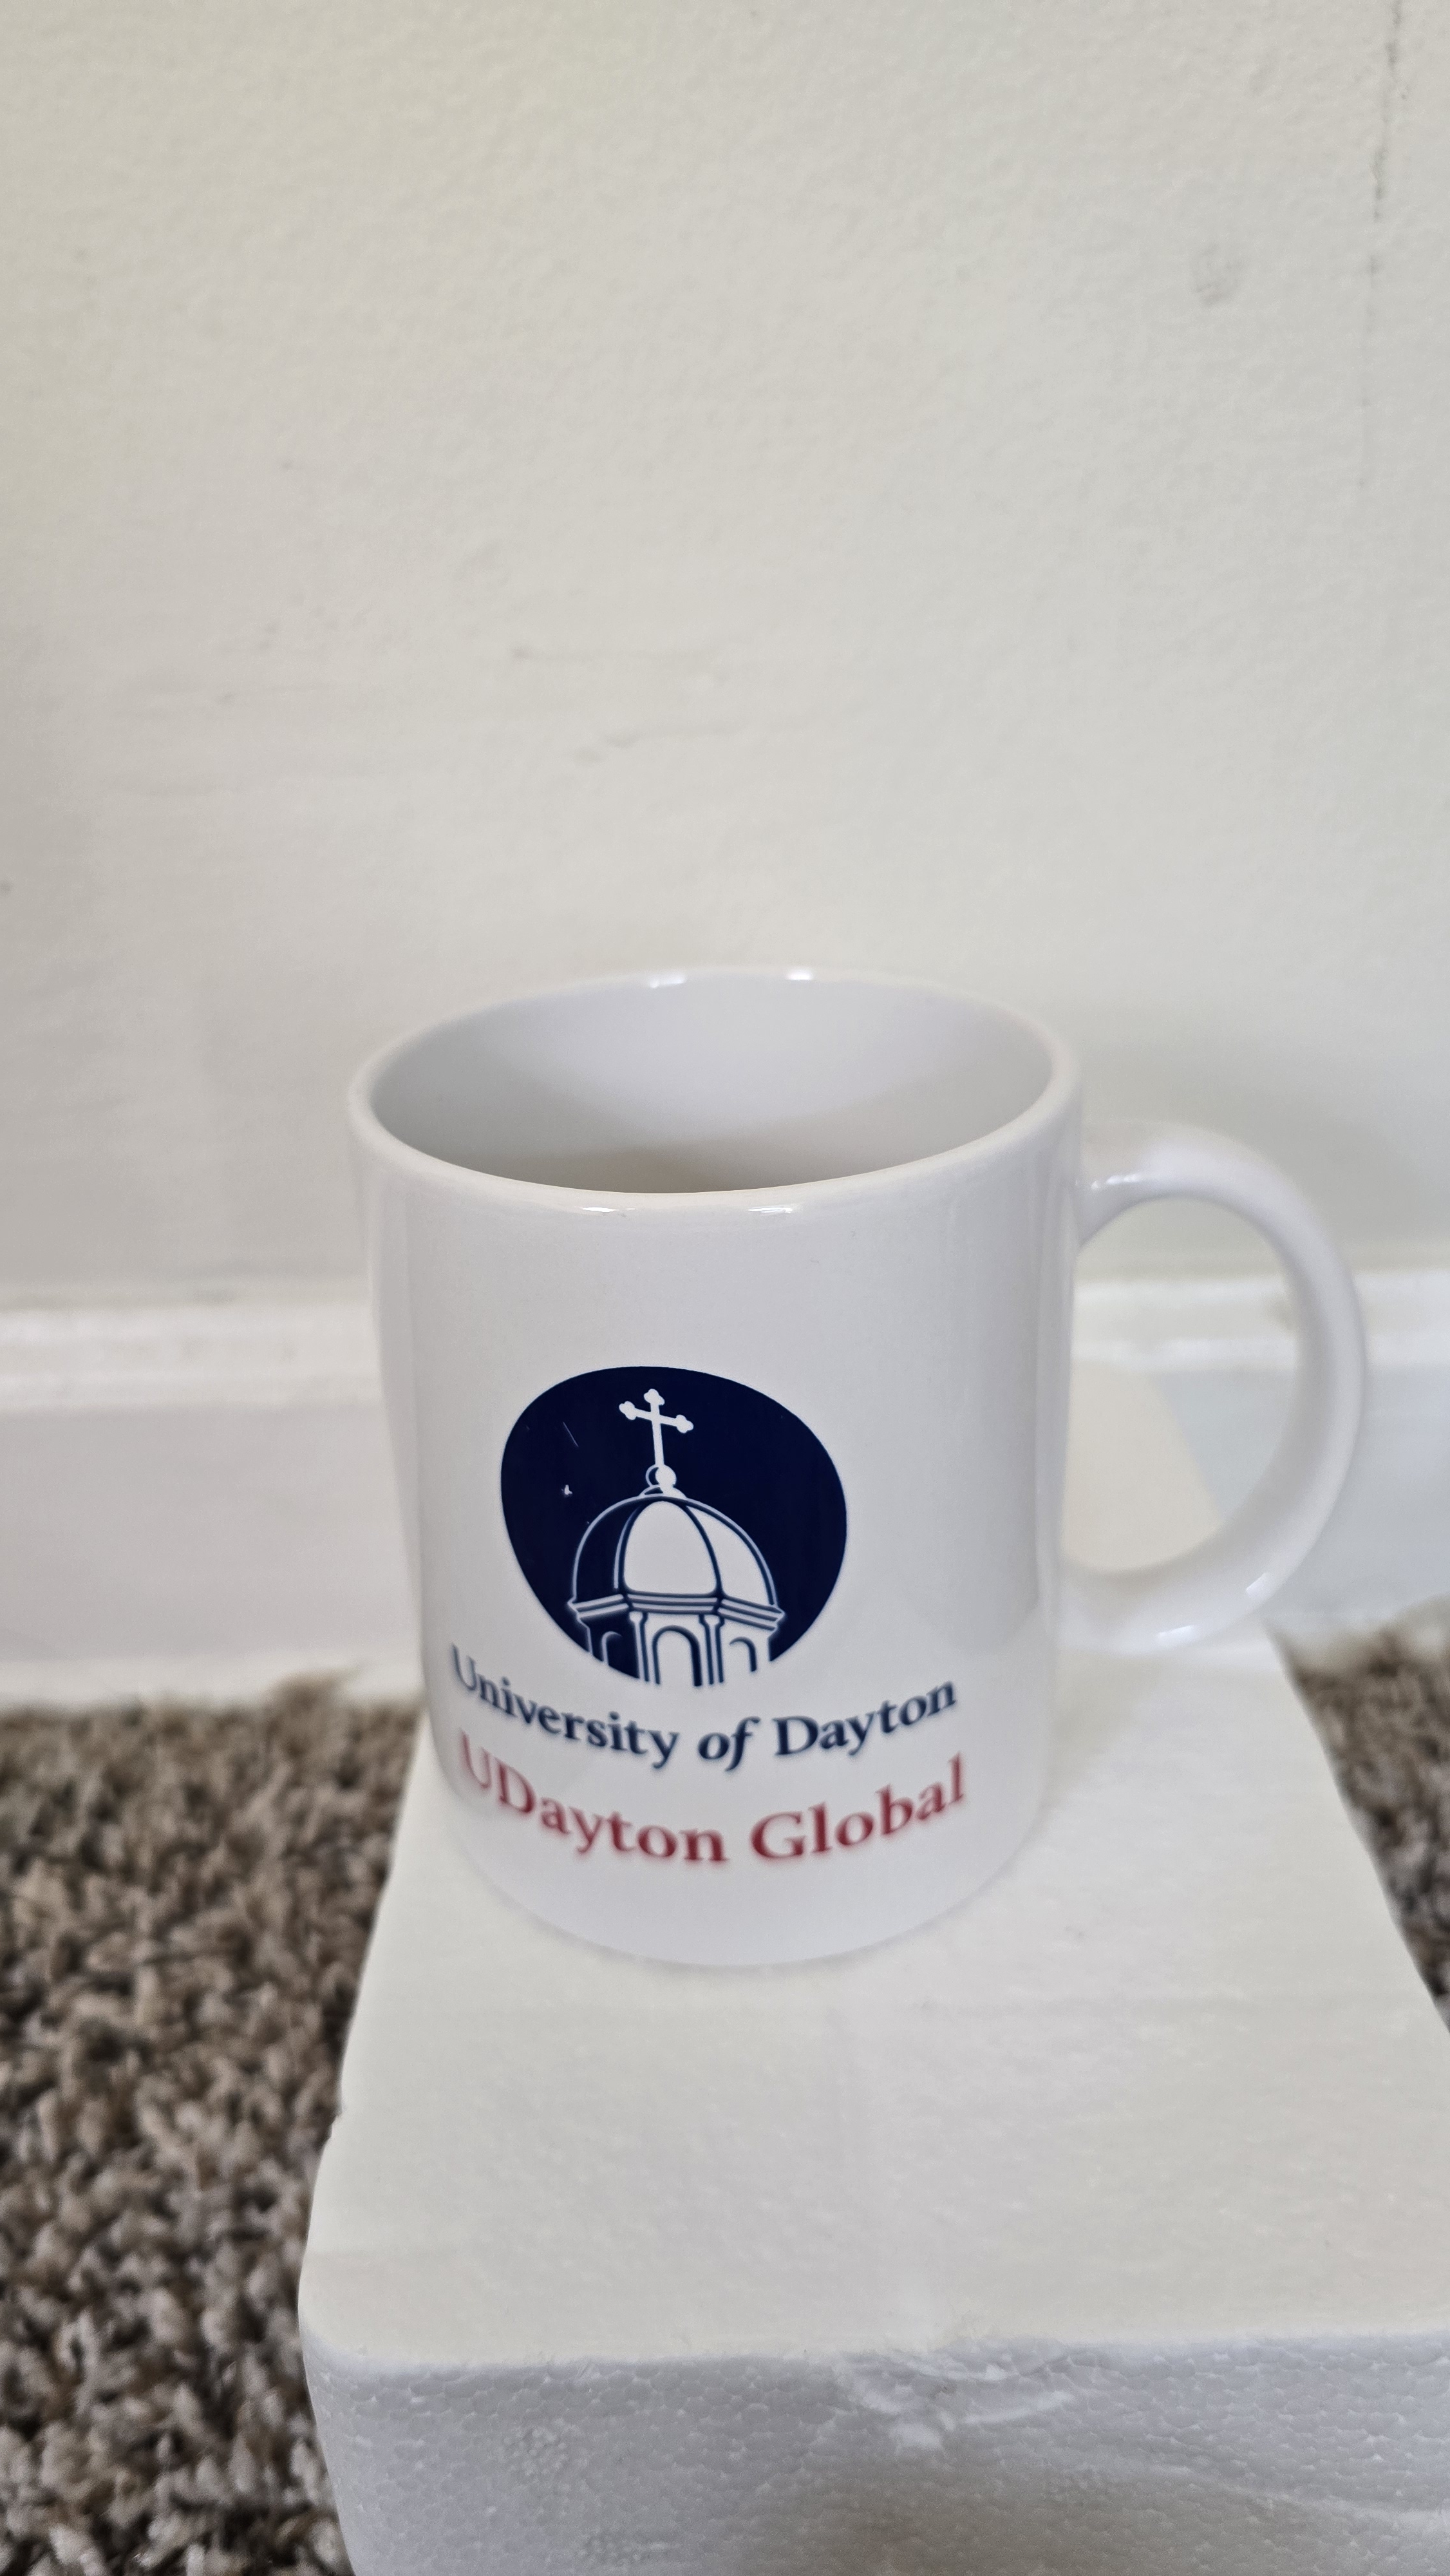mug: (237, 869, 1399, 2001)
